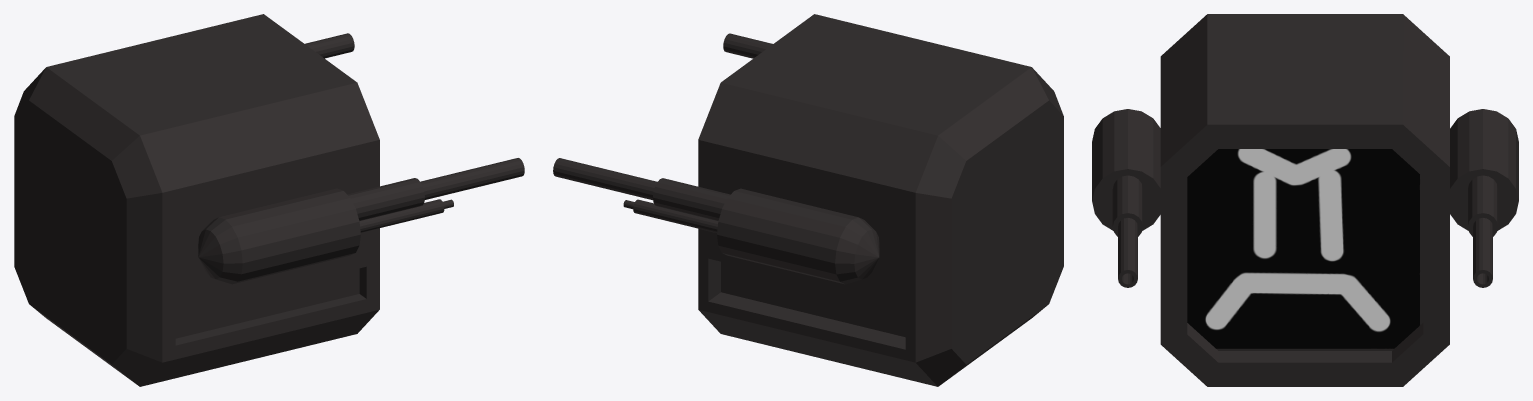
Rendered from Level2_AssualtBot.fbx.
3 views of the same model, side by side, from view 1: azimuth 30°, elevation 25°; view 2: azimuth 150°, elevation 25°; view 3: azimuth 270°, elevation 25° (orthographic). The views are drawn at different scales.
Visible parts, largest first — view 1: Cube; view 2: Cube; view 3: Cube.
Part boxes in pixels (x1,y1,x2,y2): Cube: (14, 14, 524, 386); Cube: (553, 14, 1063, 386); Cube: (1092, 14, 1518, 386).
Size of the model in its own units: 388 by 255 by 377.
1 material, 1 textured.
